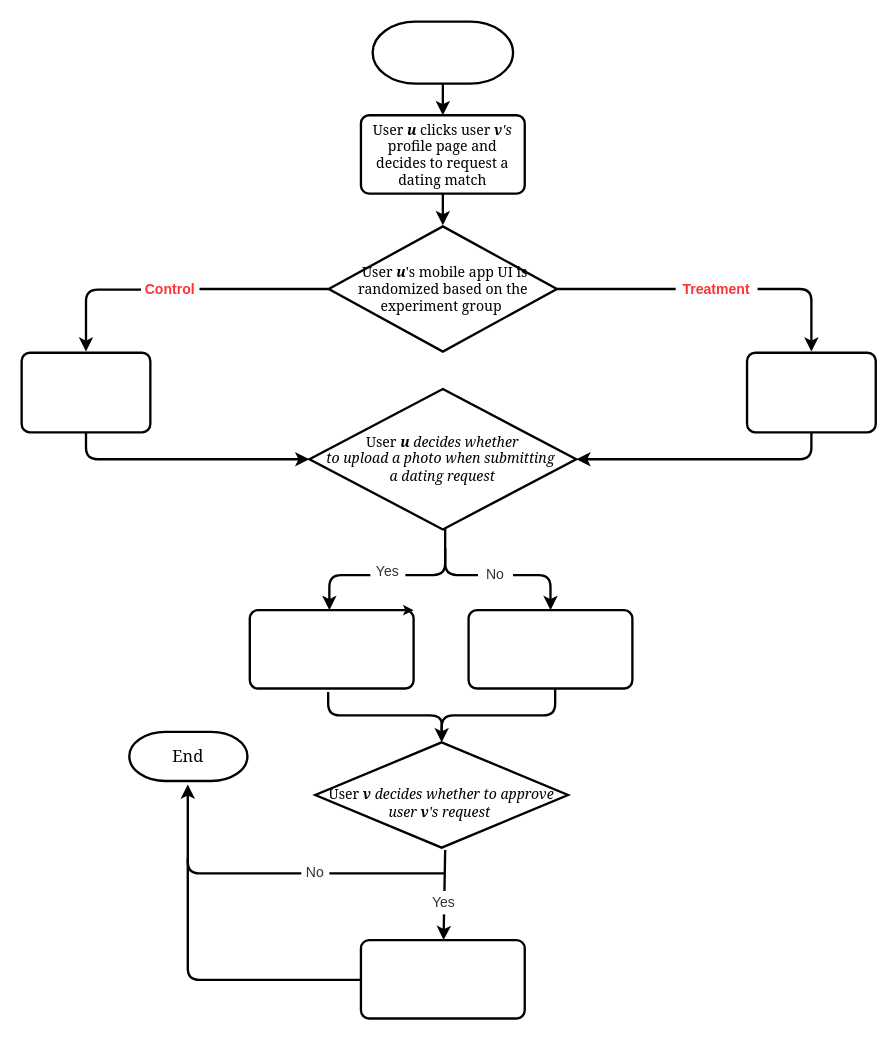
Some shapes in this 896 by 1039 pixel diagram are drawn without their labels. The centre of each missing label's shape, as x and y in pixels:
"Start" goes at [442,52].
"Upload a Photo" goes at [85,392].
"Upload an Ephemeral Photo" goes at [810,392].
"User u and user v are now matched and they can start conversations" goes at [442,978].
"User u submits the dating request to user v with a photo" goes at [331,648].
"User u submits the dating request to user v without a photo" goes at [550,648].
